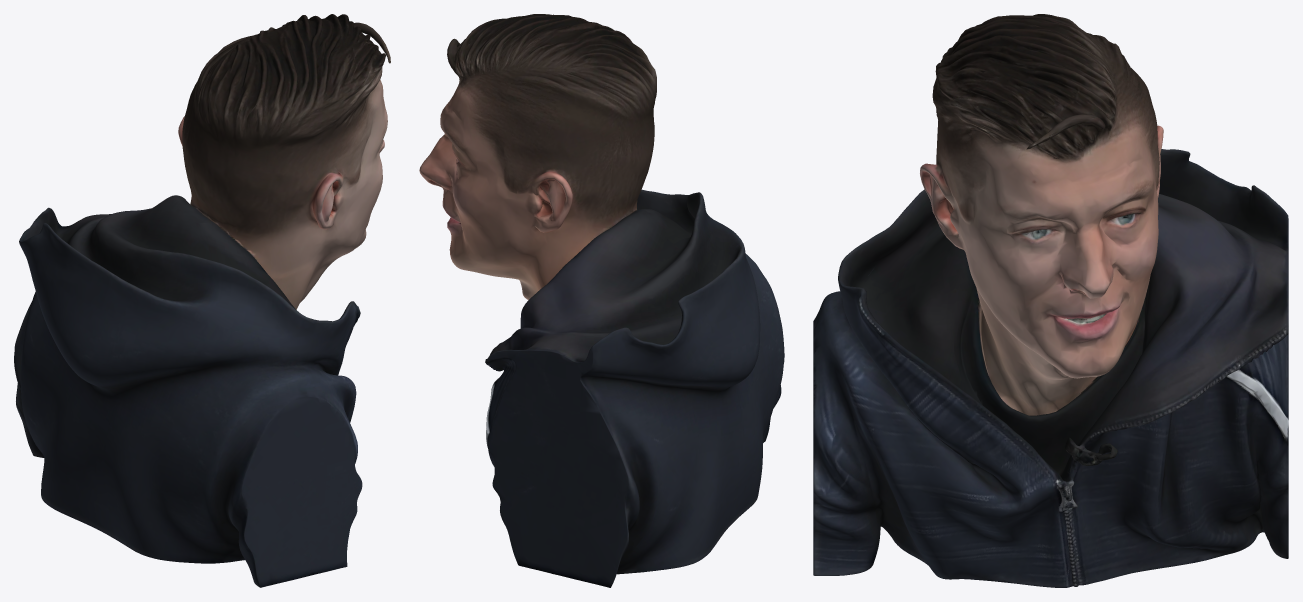
The picture shows the model from 3 angles, left to right: view 1: azimuth 30°, elevation 25°; view 2: azimuth 150°, elevation 25°; view 3: azimuth 270°, elevation 25°; orthographic projection. The views are drawn at different scales.
Visible parts, largest first — view 1: tripo_node_fb7c67af-8279-4db2-a71f-8dd6f58e320b; view 2: tripo_node_fb7c67af-8279-4db2-a71f-8dd6f58e320b; view 3: tripo_node_fb7c67af-8279-4db2-a71f-8dd6f58e320b.
Boxes of the visible parts, x1,y1,x2,y2 form: tripo_node_fb7c67af-8279-4db2-a71f-8dd6f58e320b: (14,14,390,587); tripo_node_fb7c67af-8279-4db2-a71f-8dd6f58e320b: (419,14,784,587); tripo_node_fb7c67af-8279-4db2-a71f-8dd6f58e320b: (813,14,1288,587).
Bounding box in the file's own units: 0.7327 × 1 × 0.7555.
Materials: 1 (1 with a texture image).
